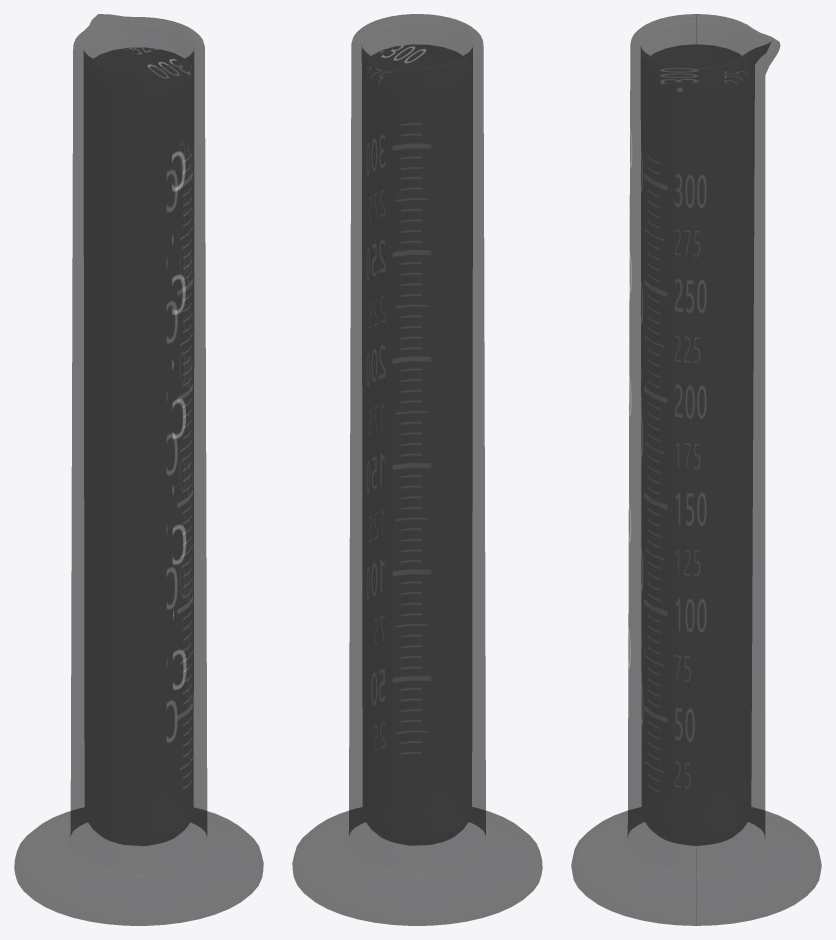
The model's file is Flask_03.fbx.
The picture shows the model from 3 angles, left to right: view 1: azimuth 30°, elevation 25°; view 2: azimuth 150°, elevation 25°; view 3: azimuth 270°, elevation 25°; orthographic projection.
Parts seen in each view (by area): view 1: Flask_03, F_Liquid_03; view 2: Flask_03, F_Liquid_03; view 3: Flask_03, F_Liquid_03.
Part boxes in pixels (<box>): Flask_03: <box>14,14,263,925</box>; F_Liquid_03: <box>85,47,192,843</box>; Flask_03: <box>292,14,542,925</box>; F_Liquid_03: <box>363,44,471,843</box>; Flask_03: <box>571,14,821,925</box>; F_Liquid_03: <box>642,44,750,843</box>.
Size of the model in its own units: 13.01 by 47.85 by 13.01.
